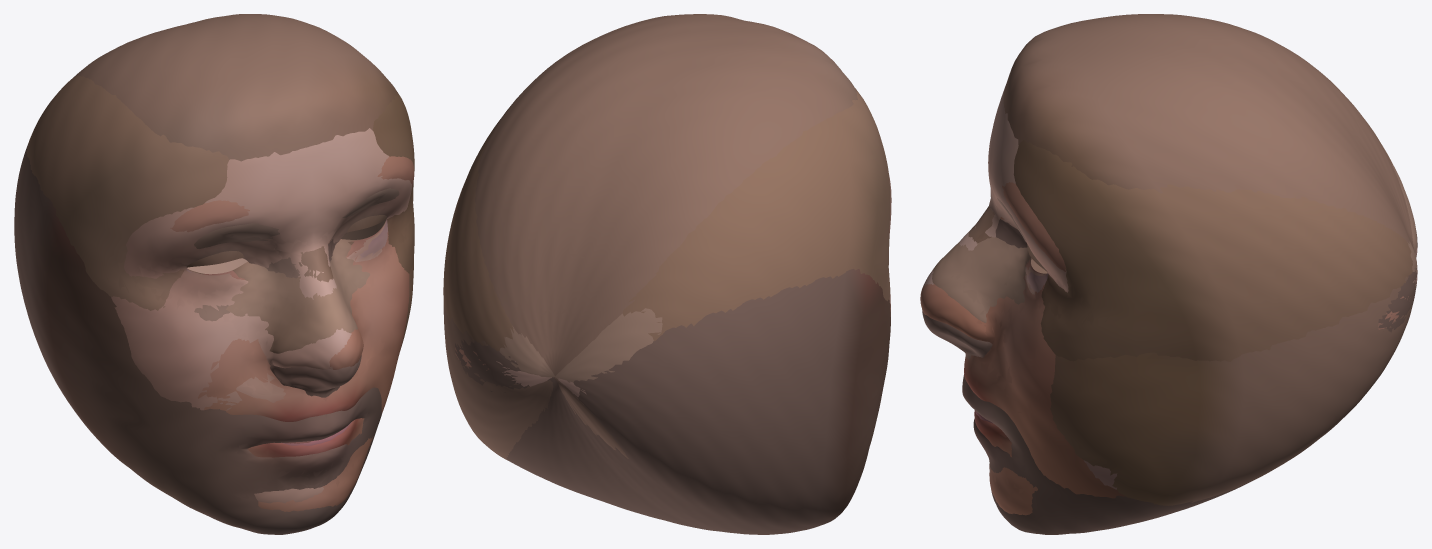
The model's file is heads.glb.
3 renders of one model, left to right at view 1: azimuth 30°, elevation 25°; view 2: azimuth 150°, elevation 25°; view 3: azimuth 270°, elevation 25°, orthographic. The views are drawn at different scales.
Visible parts, largest first — view 1: jiang_hi, an_hi, qi_hi, ning_hi, empress_hi, qi_lo, jing_lo, jing_hi, empress_lo, jiang_lo, jianqiu_hi, ning_lo (+2 smaller); view 2: an_hi, jiang_hi, ning_hi, jing_hi, qi_hi; view 3: an_hi, ning_hi, empress_hi, jiang_hi, qi_hi, jing_hi, jing_lo, empress_lo, jiang_lo, ning_lo, zhen_hi.
Boxes of the visible parts, x1,y1,x2,y2 form: jiang_hi: (14,144,381,534); an_hi: (73,14,413,347); qi_hi: (111,128,411,503); ning_hi: (27,75,414,310); empress_hi: (170,156,414,511); qi_lo: (124,187,409,492); jing_lo: (186,215,386,351); jing_hi: (187,215,386,353); empress_lo: (208,232,395,487); jiang_lo: (69,233,375,508); jianqiu_hi: (194,188,399,321); ning_lo: (101,185,413,303); an_hi: (443,14,857,460); jiang_hi: (455,269,890,534); ning_hi: (443,88,890,351); jing_hi: (499,308,662,382); qi_hi: (496,175,891,396); an_hi: (968,14,1416,505); ning_hi: (1013,119,1412,361); empress_hi: (920,182,1410,515); jiang_hi: (922,219,1417,534); qi_hi: (923,84,1417,472); jing_hi: (932,157,1417,322); jing_lo: (950,237,1047,314); empress_lo: (965,217,1049,503); jiang_lo: (938,219,1034,518); ning_lo: (1043,274,1113,325); zhen_hi: (975,267,1416,489).
Bounding box in the file's own units: 0.1745 × 0.2206 × 0.2072.
